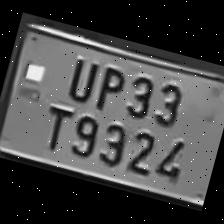2: (120, 122, 160, 176)
3: (147, 75, 188, 129), (92, 115, 132, 169), (120, 67, 158, 120)
4: (150, 130, 191, 184)
9: (65, 107, 104, 160)
P: (88, 59, 129, 113)
T: (32, 97, 76, 154)
U: (60, 50, 104, 104)
